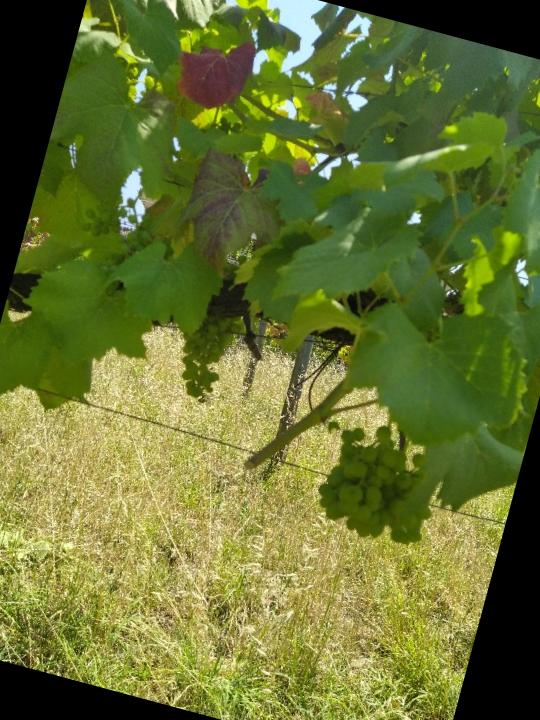grape: (306, 413, 452, 556), (165, 304, 248, 417)
